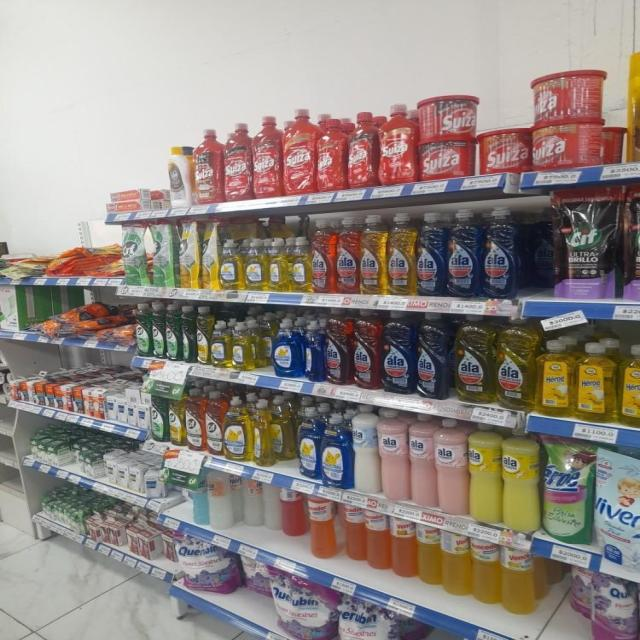ala_conc_amarillo: (452, 313, 494, 405), (496, 315, 535, 411), (388, 212, 416, 296), (360, 214, 387, 295)
ala_conc_azul: (482, 205, 521, 298), (447, 208, 481, 298), (416, 312, 450, 399), (381, 310, 415, 395), (416, 211, 446, 297)
ala_conc_rojo: (352, 308, 380, 390), (324, 308, 351, 386), (311, 217, 335, 294), (336, 216, 359, 295)
ala_crem_blanco: (352, 405, 379, 495)
ala_crem_rosado: (436, 417, 466, 516), (379, 408, 409, 501)
cif_conc_botella_roja: (185, 387, 204, 452), (205, 390, 223, 456)
cif_conc_botella_verde: (134, 302, 150, 358), (165, 303, 180, 361), (151, 302, 165, 359)
heroe: (576, 341, 617, 422), (538, 339, 574, 417), (620, 344, 640, 428)
magistral_con_amarillo: (224, 395, 250, 462), (244, 238, 266, 292), (267, 238, 289, 292), (220, 238, 242, 291), (231, 320, 253, 371), (291, 237, 310, 293), (211, 319, 230, 368)
magistral_con_azul: (322, 412, 351, 488), (272, 317, 302, 378), (297, 405, 320, 480)
